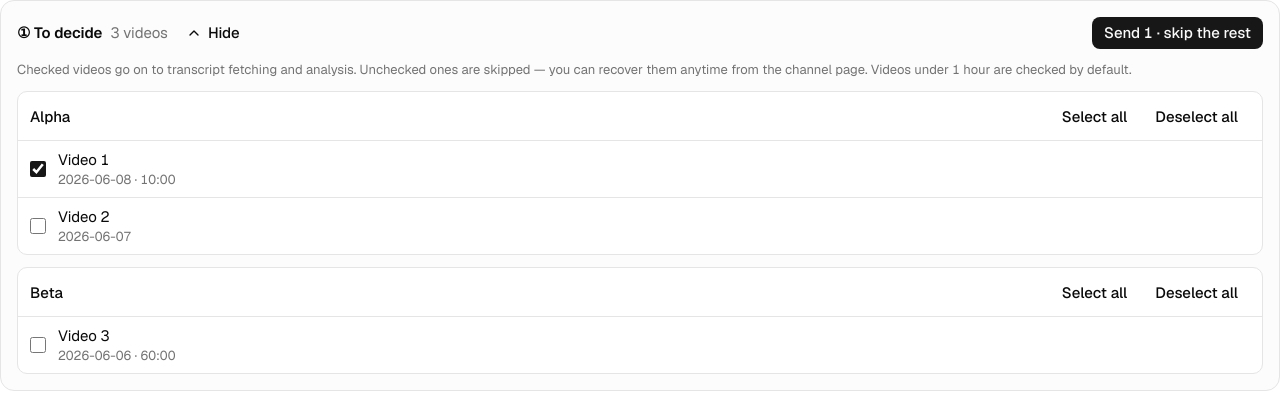
it: Inbox › counts what is checked, per video and per channel
Click the checkbox labelled "Video 3 2026-06-06 · 60:00".
click(38, 345)  # box [30,337,46,353]
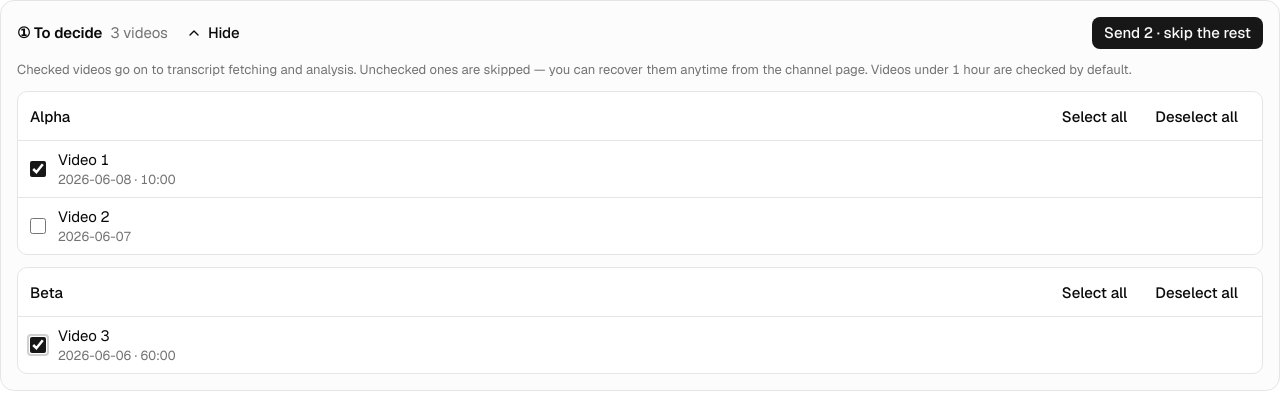
Expected: the button "Send 2 · skip the rest" is shown, [1092,17,1263,49]
Click the button "Select all" in the row of "Alpha".
click(1094, 116)  # box [1050,100,1139,132]
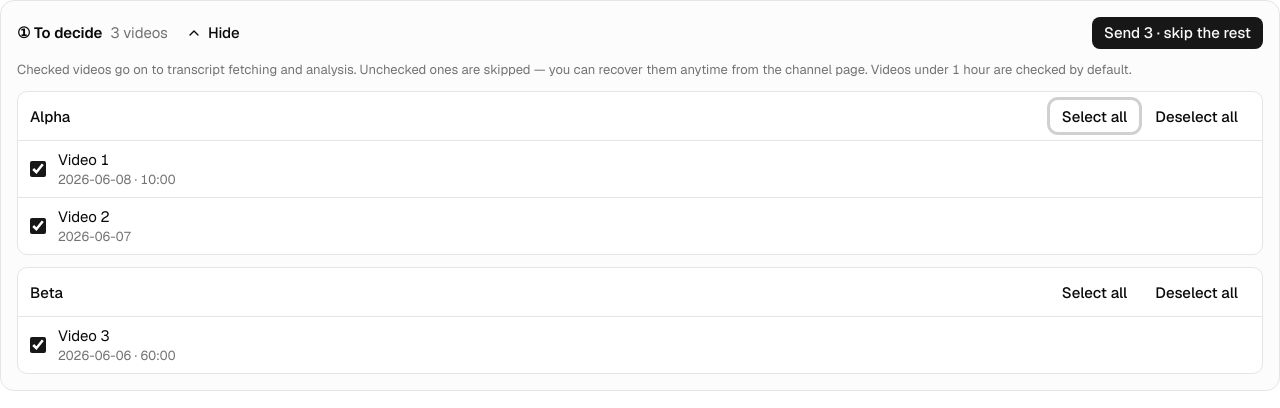
Expected: the button "Send 3 · skip the rest" is shown, [1092,17,1263,49]
